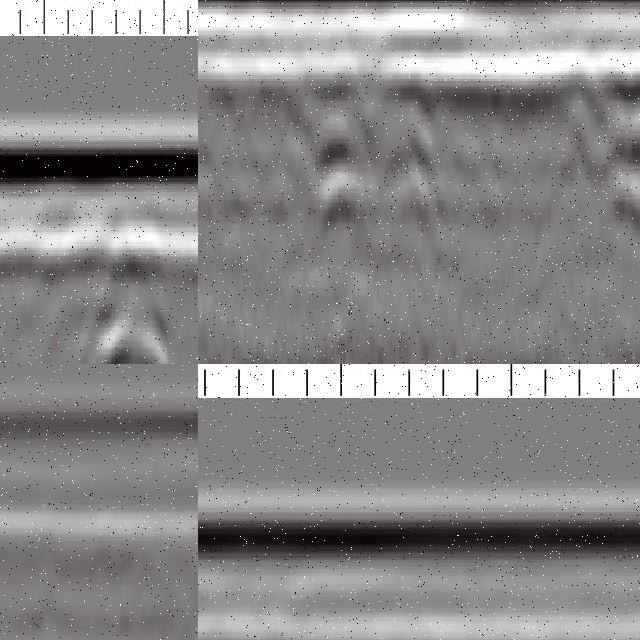loose: (287, 38, 453, 226), (579, 16, 640, 222), (88, 235, 173, 365)
